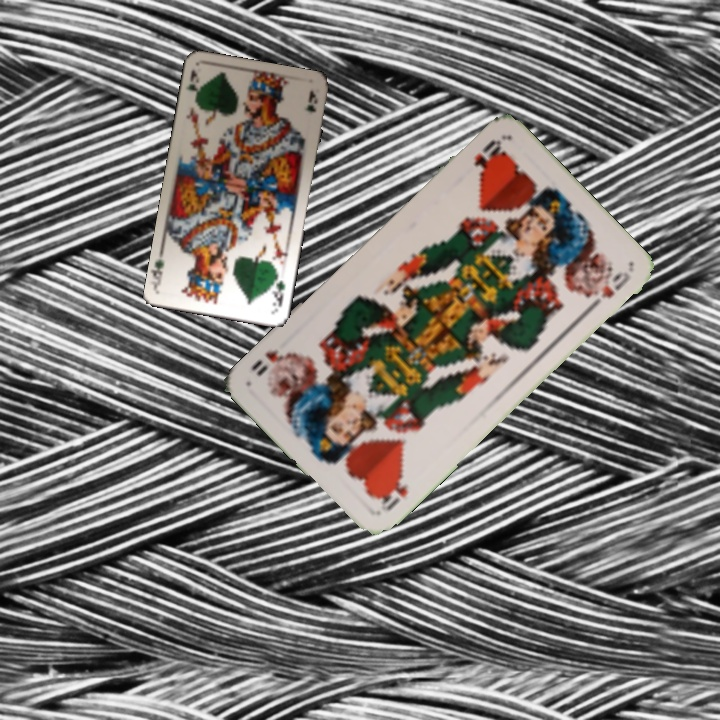GK: (182, 65, 203, 106), (268, 270, 288, 311)
HO: (469, 135, 507, 177), (374, 471, 411, 514)
